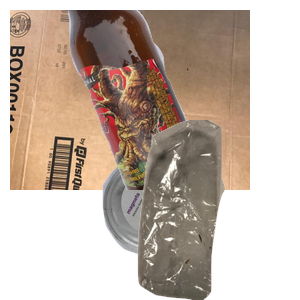cardboard: (10, 10, 250, 190)
glass: (65, 10, 300, 190)
plastic: (100, 152, 293, 300)
trash: (114, 120, 300, 300)
